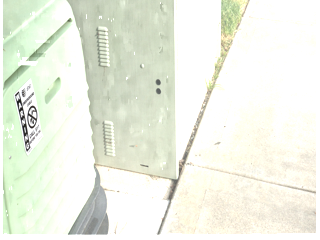Obstacle: (4, 1, 115, 236), (76, 1, 220, 180)
